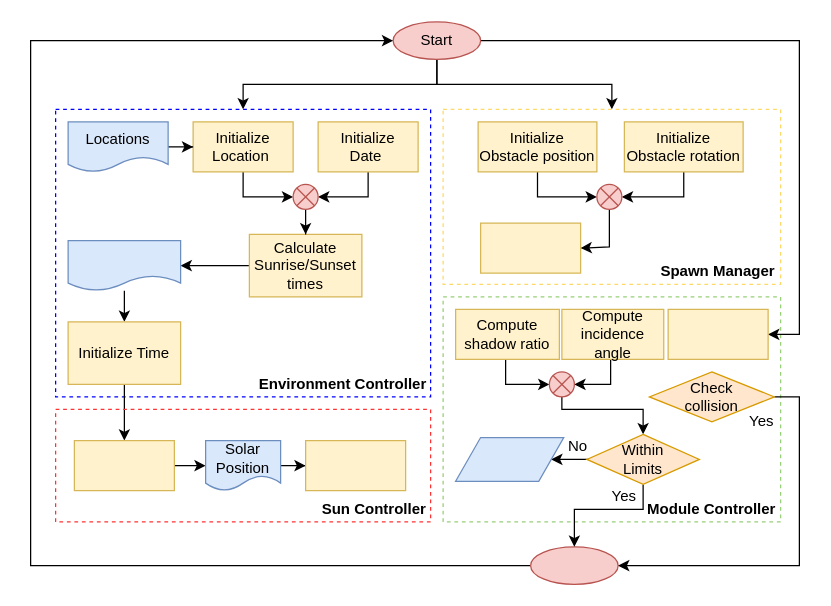
This 831x606 diagram has some shape labels left out. Here are the shapes that lost their labels. From the top down, the box of each, then its label:
(67, 239, 181, 291): Sunrise/Sunset times
(479, 222, 581, 273): Instantiate Obstacles
(667, 308, 768, 359): Initialize Joints
(73, 439, 174, 491): Calculate Sun Position
(304, 439, 406, 491): Set Sun Position
(454, 436, 564, 481): Set Joints
(529, 546, 618, 584): End
